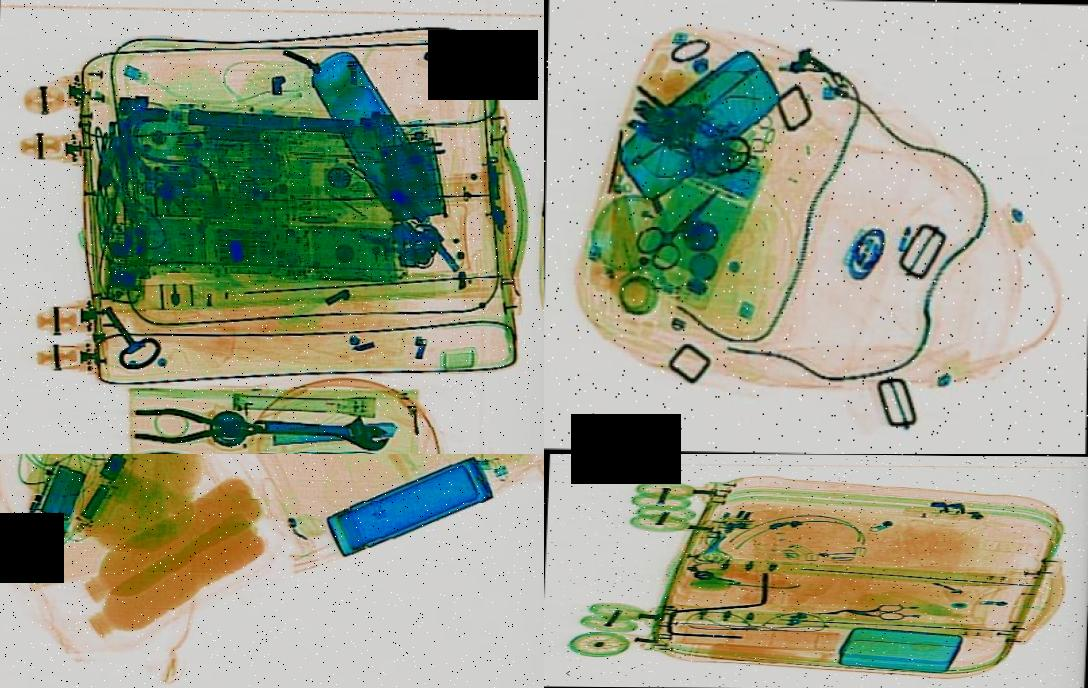Pliers: (132, 405, 264, 445), (137, 444, 285, 454)
Scissors: (625, 175, 742, 273), (816, 603, 907, 621)
Wrench: (255, 408, 392, 450)
